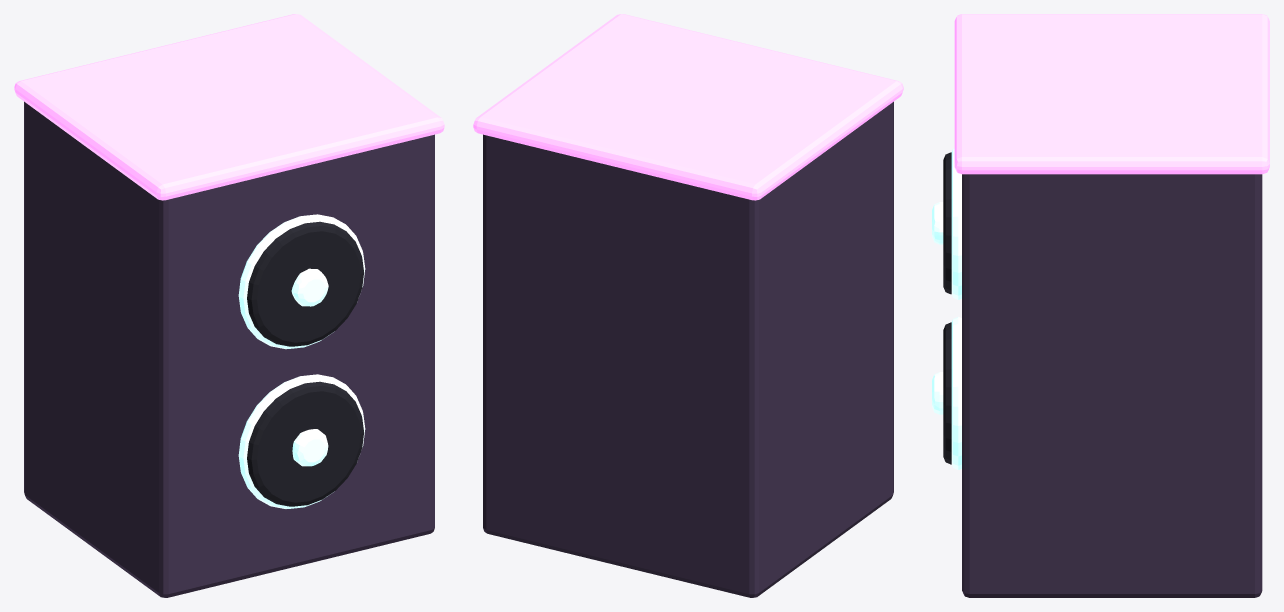
Rendered from speaker.glb.
The picture shows the model from 3 angles, left to right: view 1: azimuth 30°, elevation 25°; view 2: azimuth 150°, elevation 25°; view 3: azimuth 270°, elevation 25°; orthographic projection. The views are drawn at different scales.
Visible parts, largest first — view 1: speaker; view 2: speaker; view 3: speaker.
Boxes of the visible parts, left/top/right/bottom form: speaker: left=14, top=14, right=444, bottom=597; speaker: left=473, top=14, right=903, bottom=597; speaker: left=932, top=14, right=1269, bottom=597.
Bounding box in the file's own units: 0.94 × 1.3 × 0.9.
